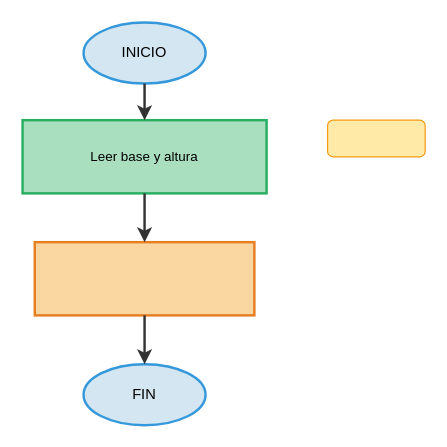
Some shapes in this 447 by 447 pixel diagram are drawn without their labels. The centre of each missing label's shape, as x and y in pixels:
Calcular perimetro y area: the point at 144,278
O(1): the point at 375,138
